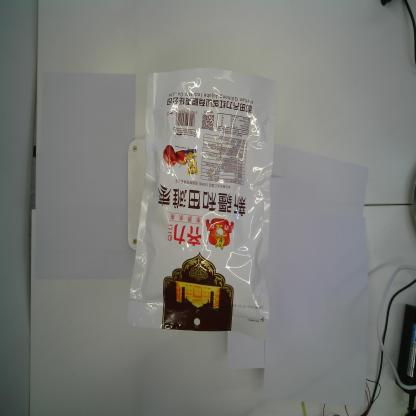Dried Food: (125, 66, 279, 341)
